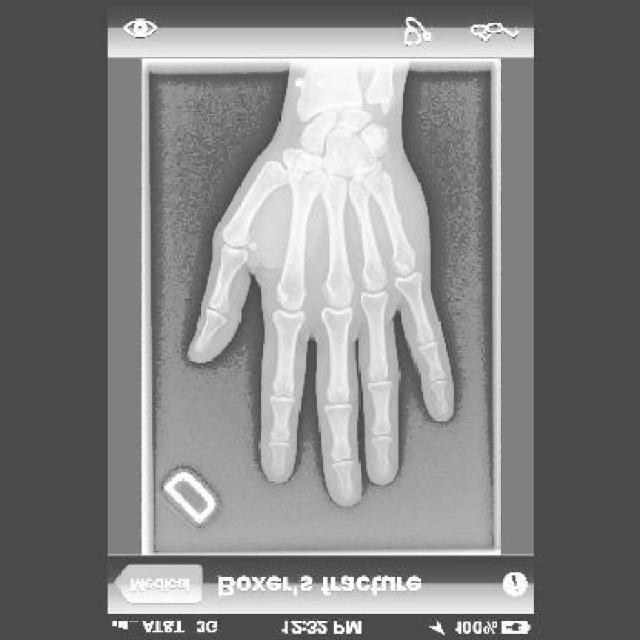Fracture: (372, 188, 405, 233)
